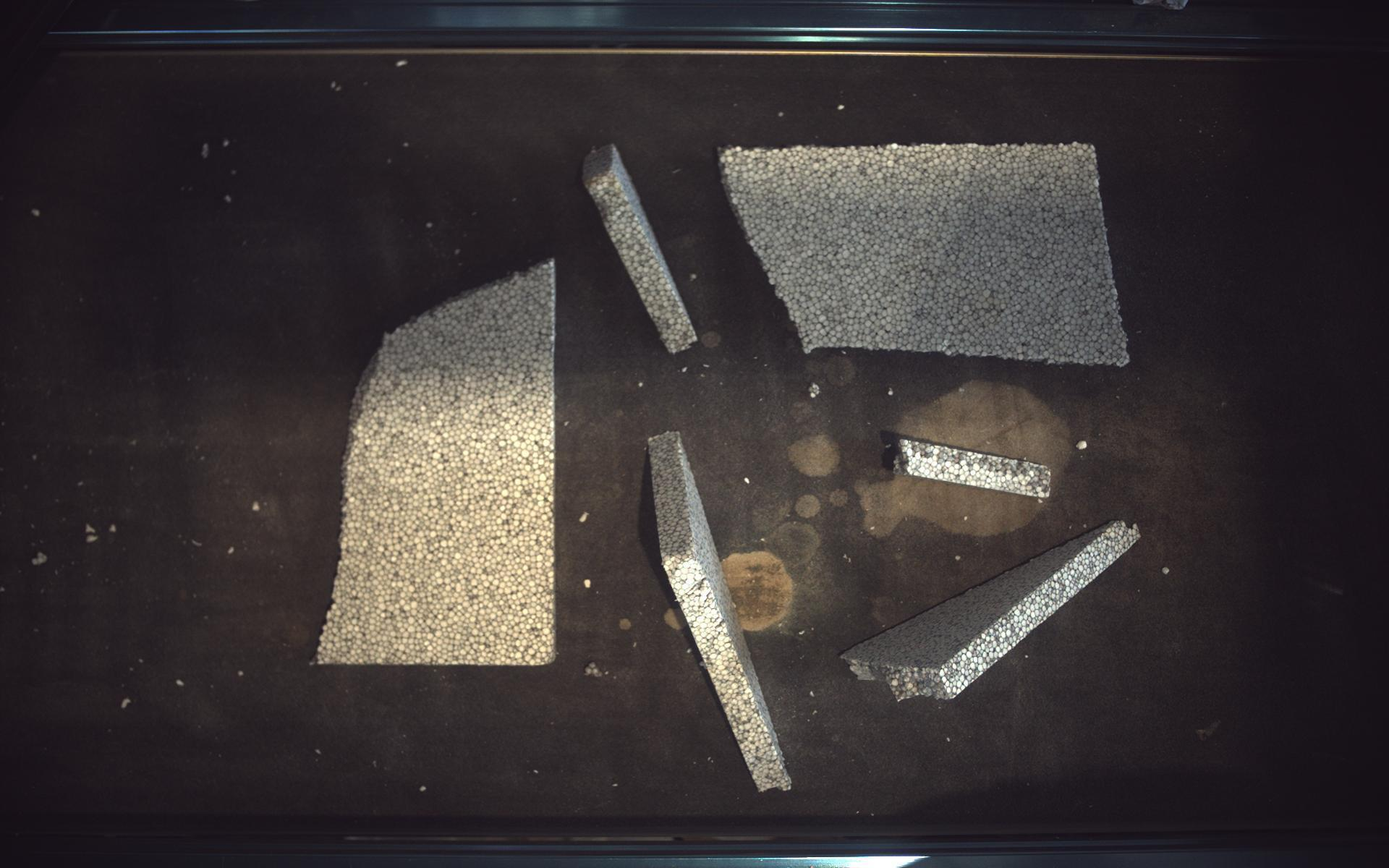foam: (315, 260, 556, 666), (721, 142, 1131, 366), (844, 521, 1142, 702), (649, 432, 793, 793), (584, 145, 698, 353), (883, 432, 1053, 498)
